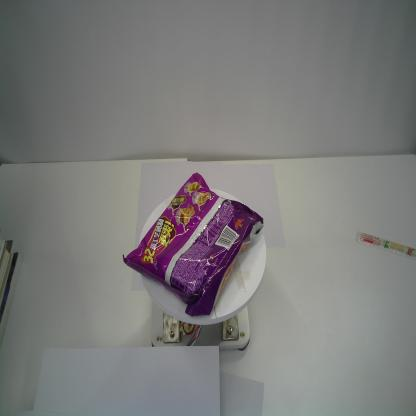Instant Noodles: (121, 171, 265, 319)
